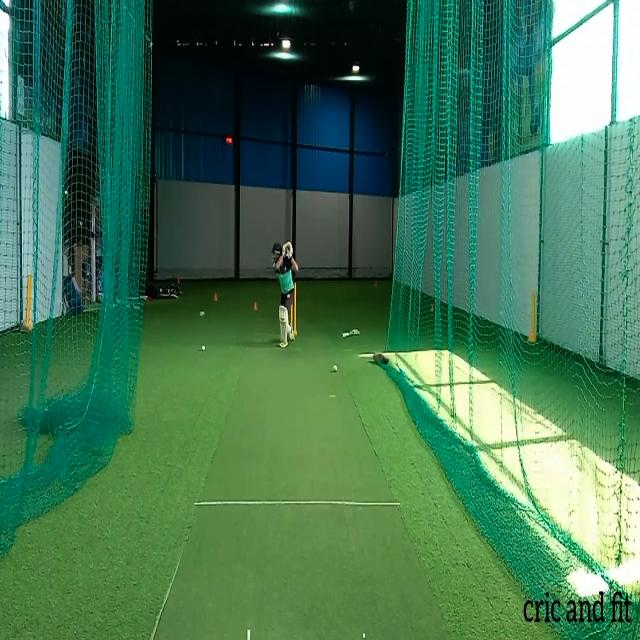batsman: (270, 240, 299, 350)
